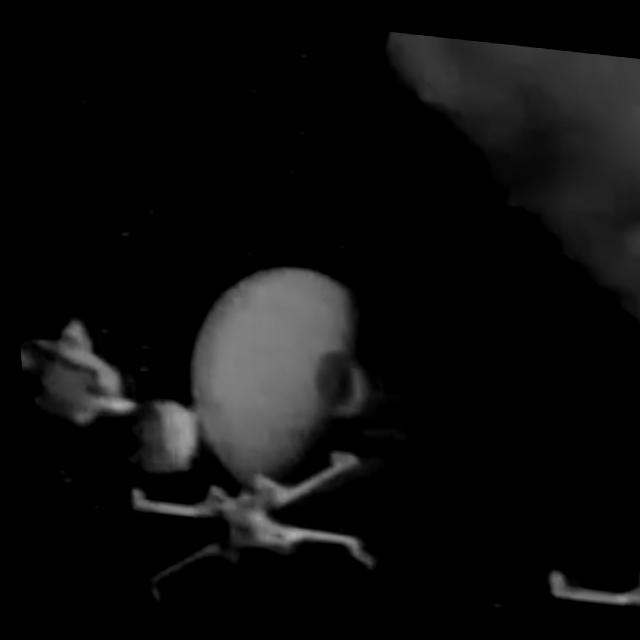death-stars: (188, 262, 402, 509)
